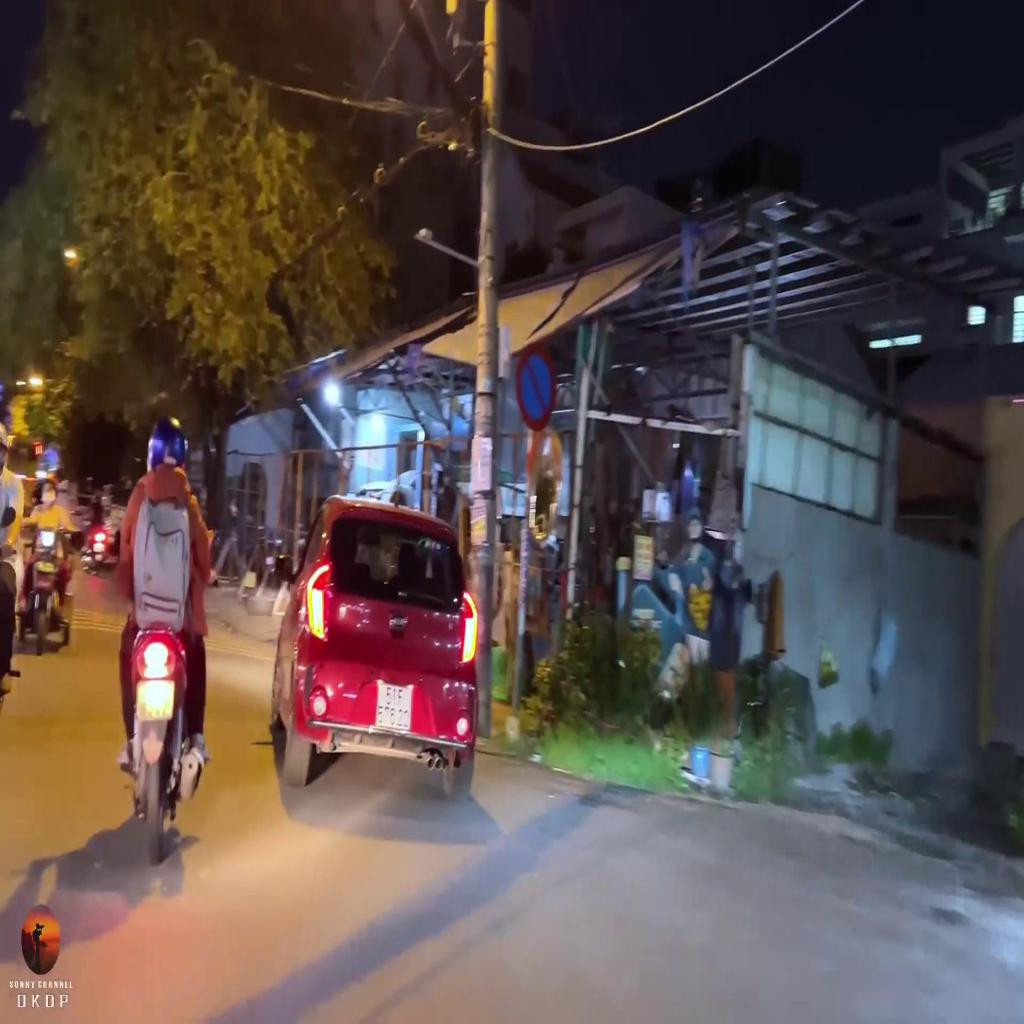cam_do_xe: (516, 342, 557, 430)
